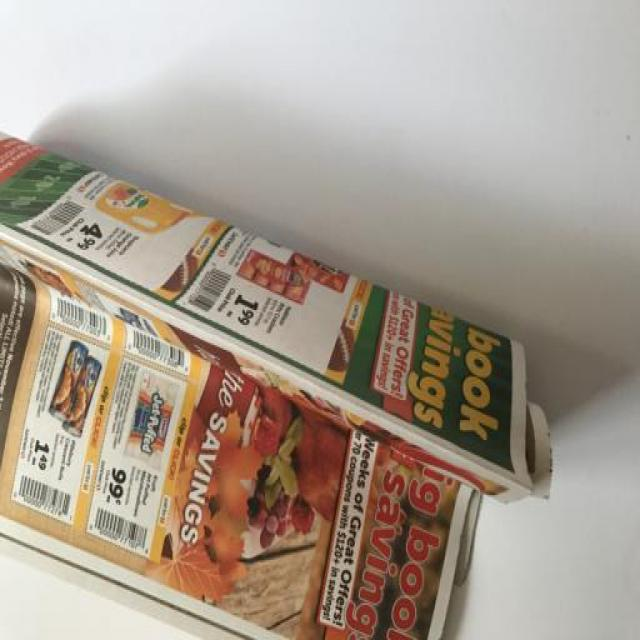paper: (2, 127, 556, 640)
